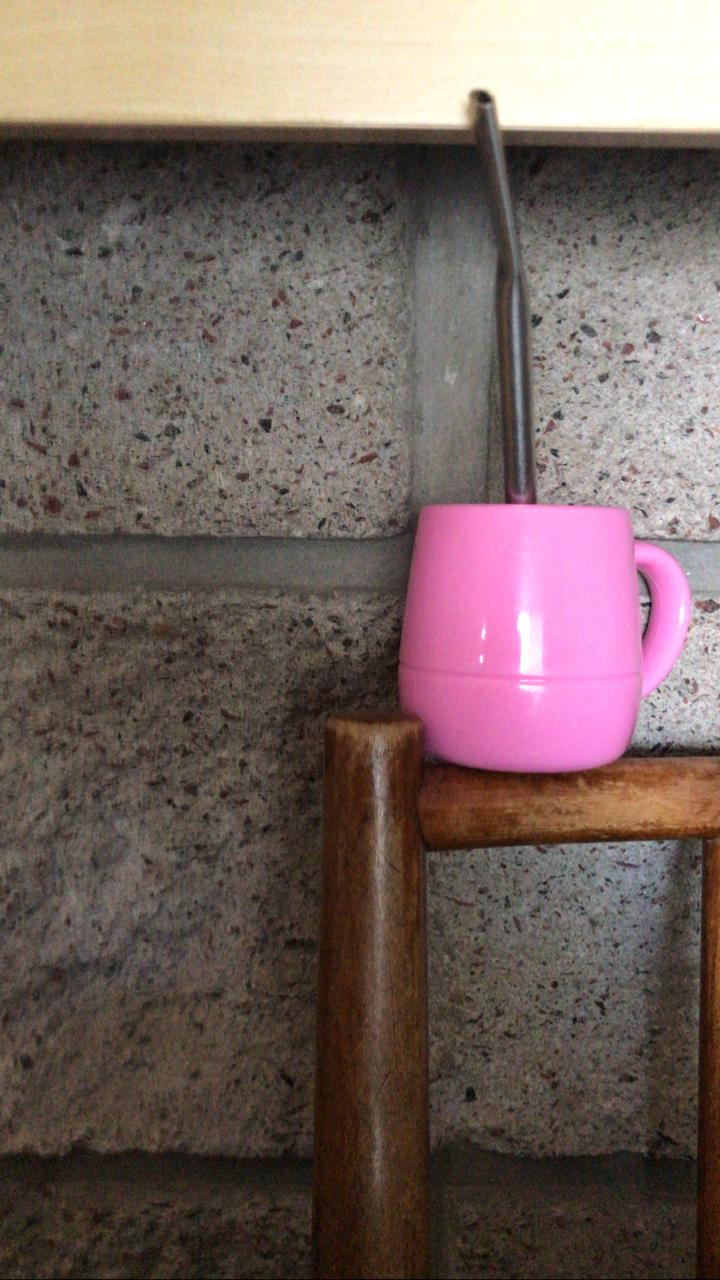mate: (386, 85, 689, 785)
